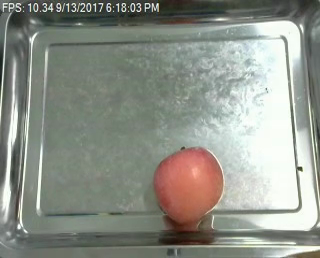Apple: (153, 144, 224, 228)
